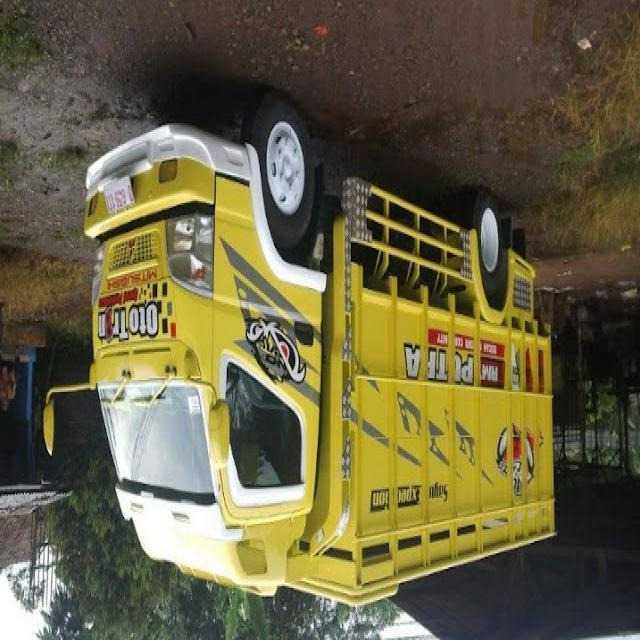truck: (44, 97, 555, 605)
